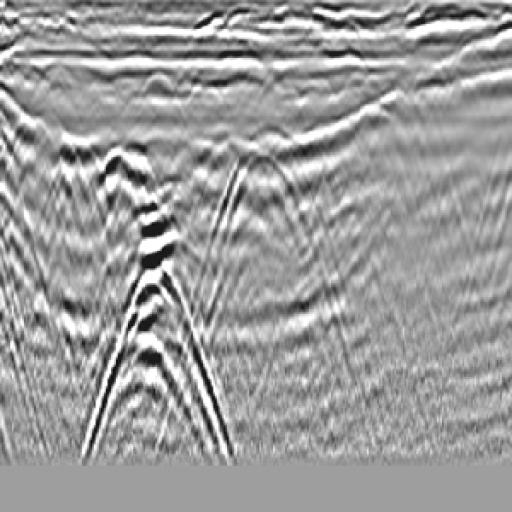metalic: (187, 99, 346, 347)
